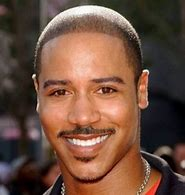person: (31, 4, 149, 184)
